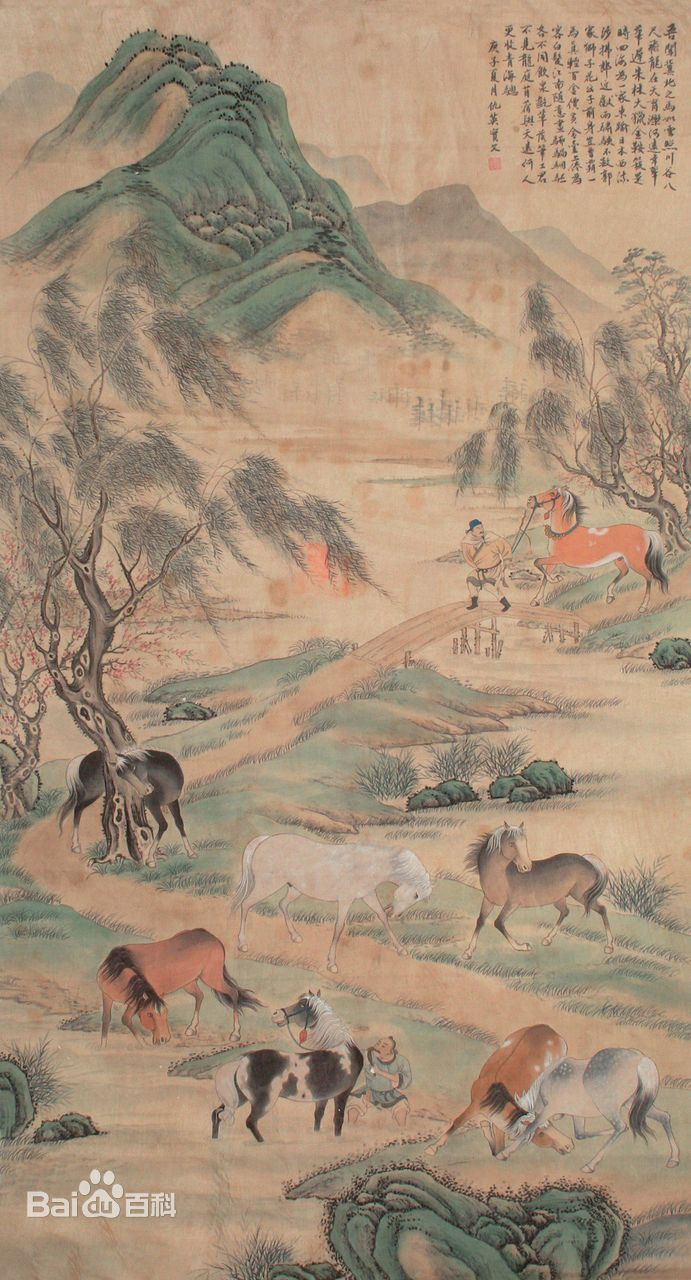bridge: (364, 609, 591, 654)
grass: (203, 1233, 297, 1278), (434, 740, 531, 777), (367, 760, 420, 794), (27, 1052, 58, 1106)
horse: (239, 843, 419, 965), (479, 840, 610, 956), (71, 756, 189, 862), (473, 1062, 649, 1123), (546, 529, 651, 610), (212, 1064, 352, 1099), (106, 948, 153, 1038), (435, 1125, 577, 1153), (281, 1007, 350, 1056), (157, 938, 217, 983), (533, 494, 576, 546), (501, 1031, 560, 1060), (653, 1118, 687, 1167), (581, 1131, 617, 1173), (221, 982, 241, 1039), (183, 985, 203, 1037), (610, 1113, 672, 1128), (250, 1108, 264, 1141), (335, 1100, 345, 1132), (314, 1102, 323, 1132), (218, 1102, 224, 1144)
kid: (361, 1040, 408, 1120)
man: (467, 526, 507, 609)
mountain: (17, 50, 272, 335), (343, 206, 514, 406), (278, 165, 343, 418), (518, 225, 593, 310)
tree: (1, 546, 27, 811)
willow: (121, 456, 382, 593), (535, 311, 691, 481), (62, 387, 119, 733), (38, 333, 242, 400), (2, 370, 52, 545), (453, 410, 514, 498), (624, 259, 691, 323), (626, 484, 689, 525), (169, 570, 217, 600)
